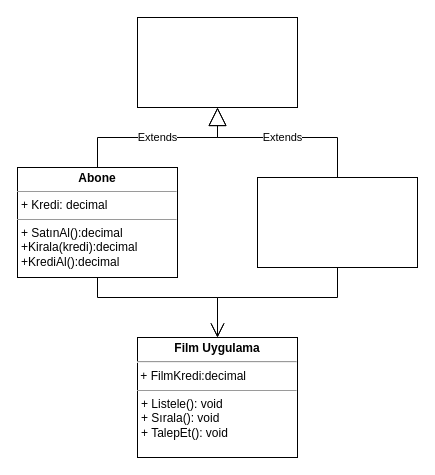
This 435x475 diagram has some shape labels left out. Here are the shapes that lost their labels. From the top down, the centre of each, then its label:
the point at 217,62: Kullanıcı + SatınAl(): decimal +AboneOl():decimal
the point at 337,222: Normal + SatınAl(): decimal
